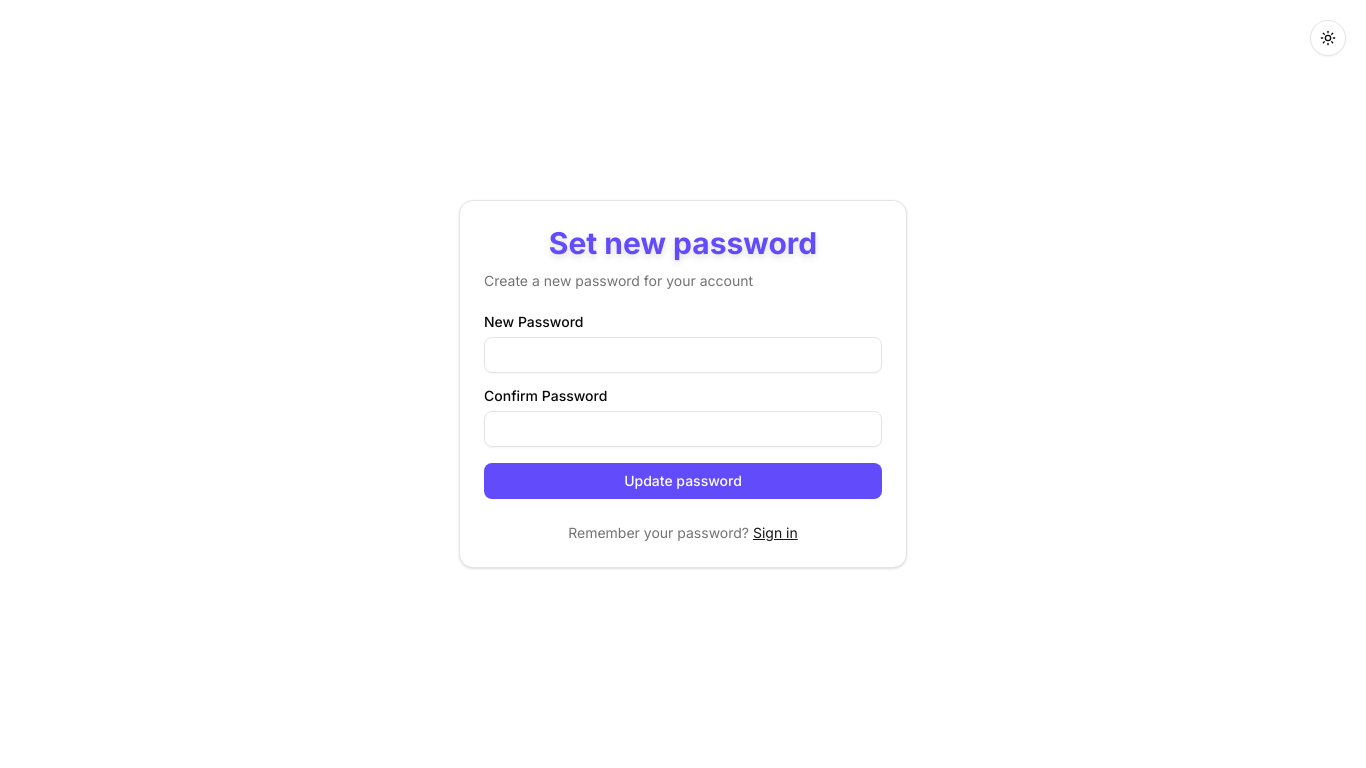
SetPasswordPage › shows password mismatch error when passwords do not match
In the password field labelled "New Password": (683, 355) [484,337,882,373], type "password123"
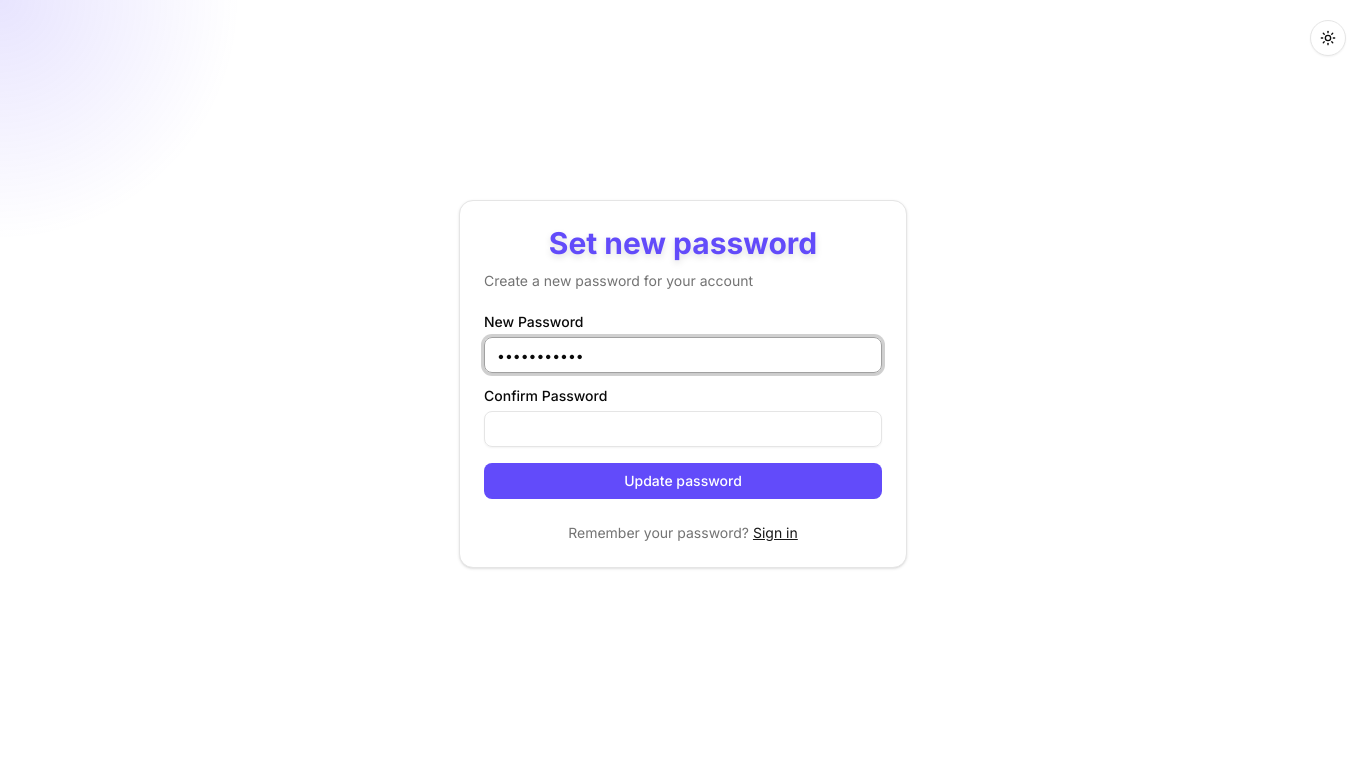
In the password field labelled "Confirm Password": (683, 429) [484,411,882,447], type "differentPassword"
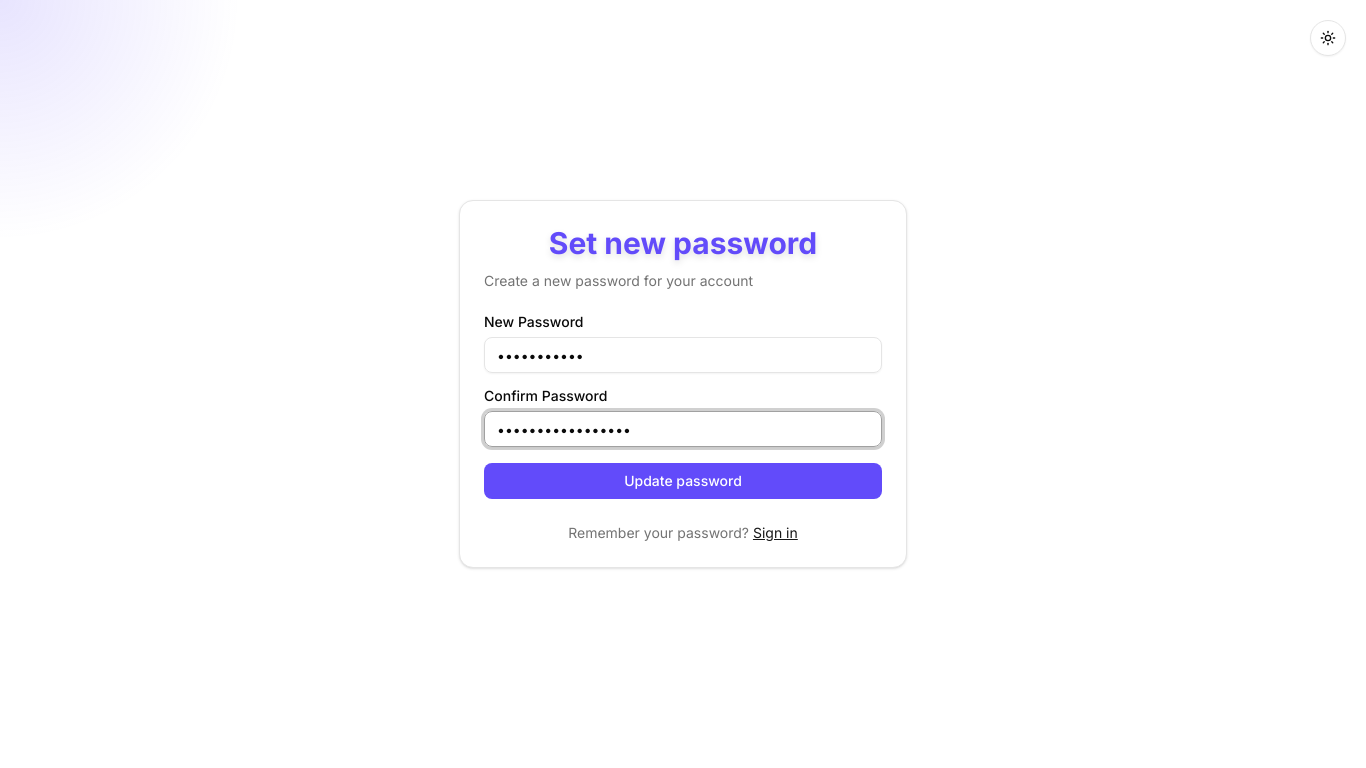
Click the button "Update password": click(683, 481) [484,463,882,499]
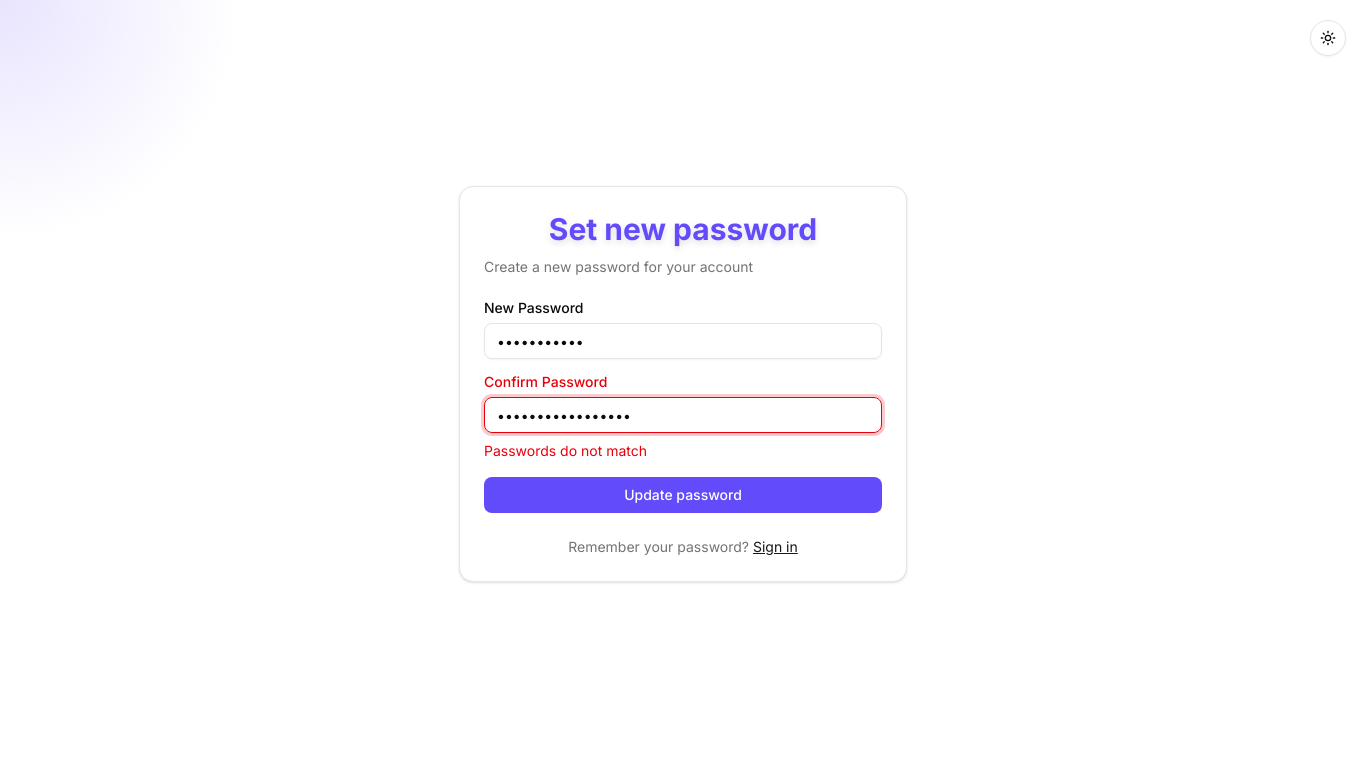
Expected: the text "Passwords do not match" is shown, [484,442,647,459]
